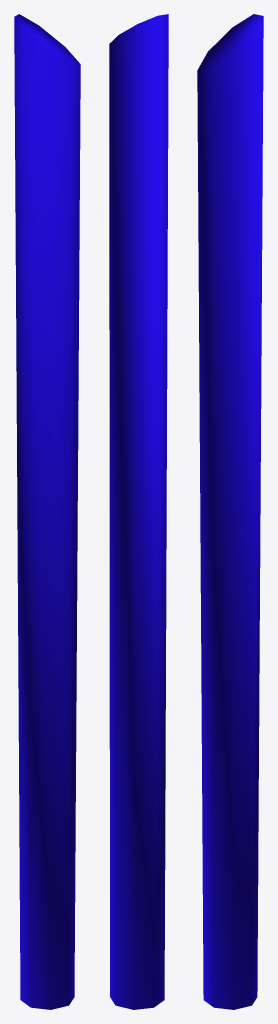
File: SM_Throne_Pipe_Broken_01.fbx
The picture shows the model from 3 angles, left to right: view 1: azimuth 90°, elevation 25°; view 2: azimuth 210°, elevation 25°; view 3: azimuth 270°, elevation 25°; orthographic projection.
Visible parts, largest first — view 1: SM_Throne_Pipe_Broken_01; view 2: SM_Throne_Pipe_Broken_01; view 3: SM_Throne_Pipe_Broken_01.
Boxes of the visible parts, left/top/right/bottom form: SM_Throne_Pipe_Broken_01: left=14, top=14, right=80, bottom=1009; SM_Throne_Pipe_Broken_01: left=109, top=14, right=168, bottom=1009; SM_Throne_Pipe_Broken_01: left=197, top=14, right=263, bottom=1009.
Size of the model in its own units: 0.1661 by 3.29 by 0.2017.
